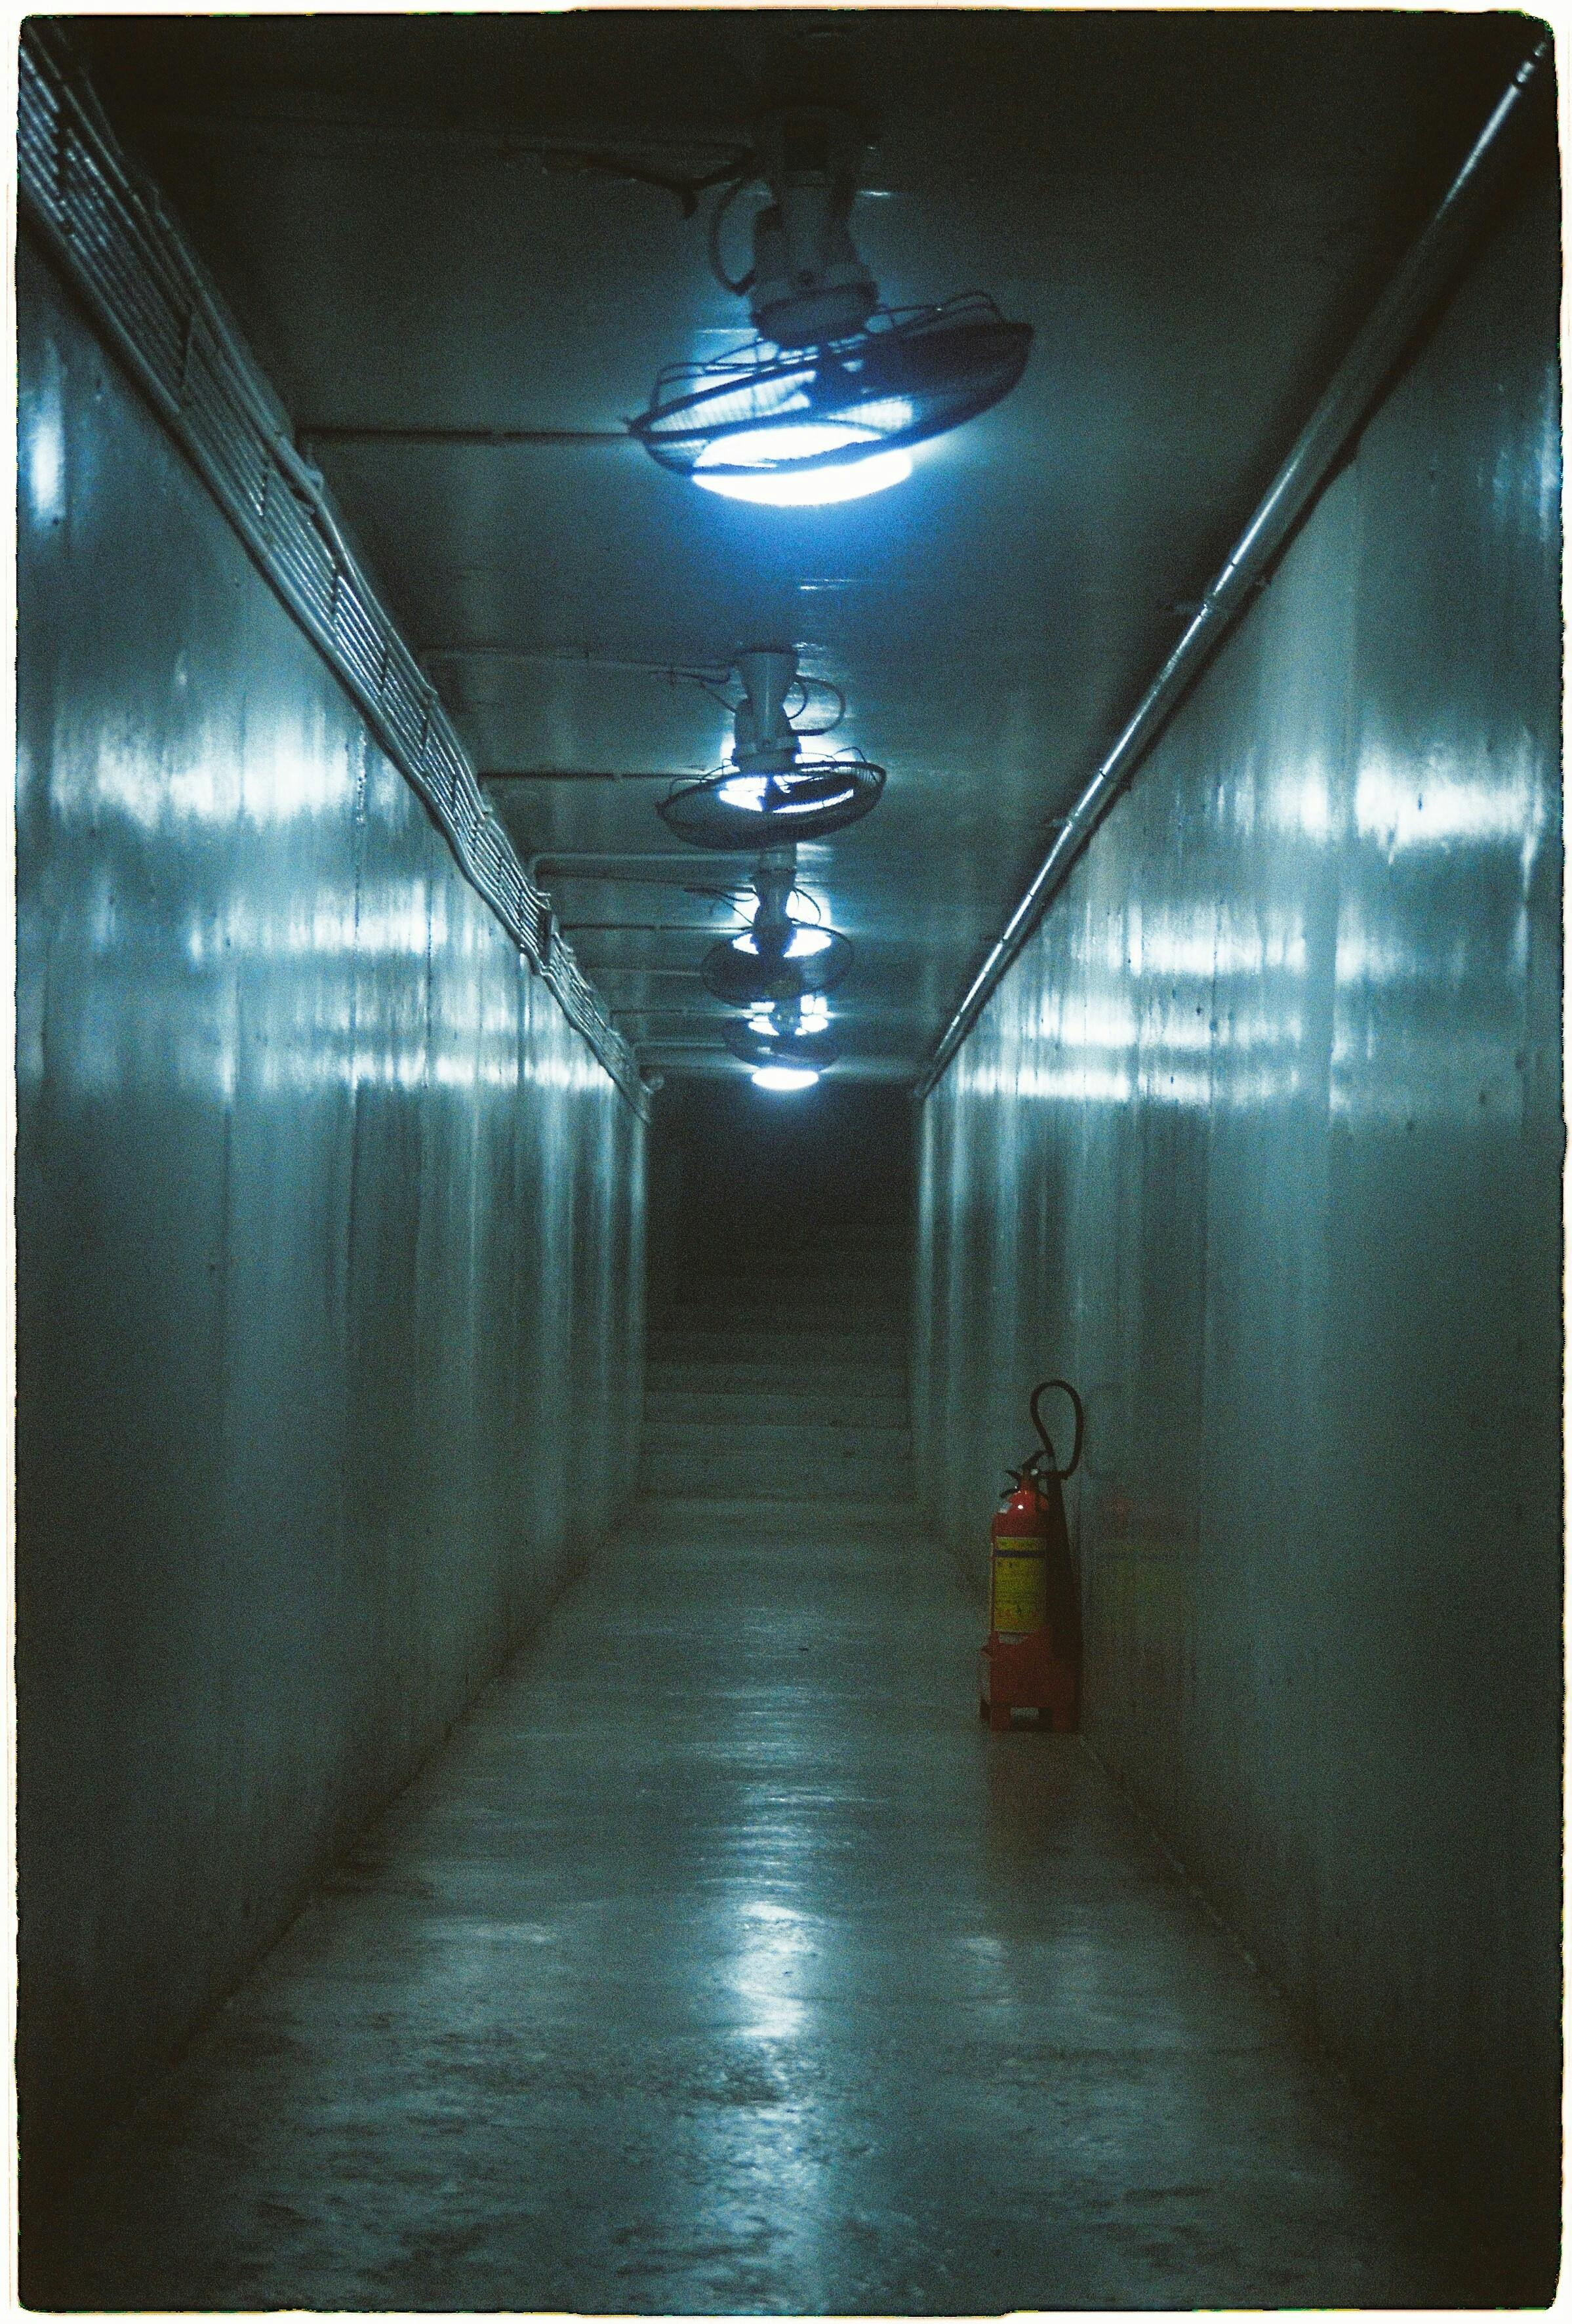extintor: (968, 1444, 1091, 1728)
